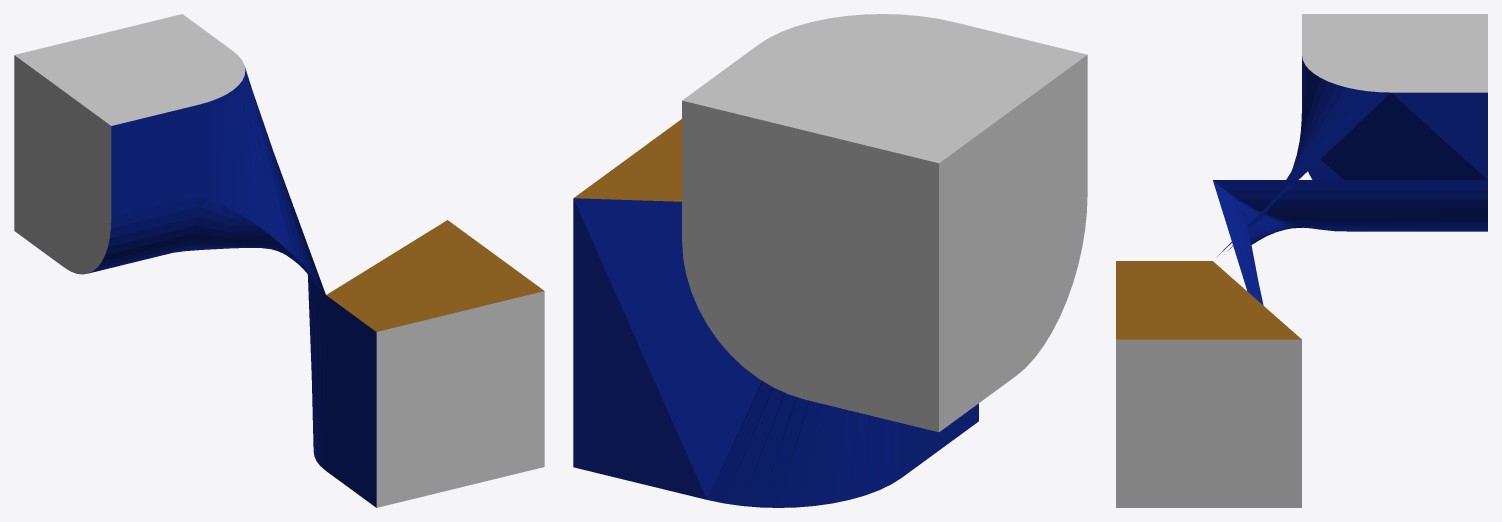
File: case_20.fbx
The picture shows the model from 3 angles, left to right: view 1: azimuth 30°, elevation 25°; view 2: azimuth 150°, elevation 25°; view 3: azimuth 270°, elevation 25°; orthographic projection. The views are drawn at different scales.
Visible parts, largest first — view 1: case_20; view 2: case_20; view 3: case_20.
Boxes of the visible parts, x1,y1,x2,y2 form: case_20: (14, 14, 544, 507); case_20: (573, 14, 1087, 507); case_20: (1116, 14, 1487, 507).
Bounding box in the file's own units: 1 × 1 × 1.
